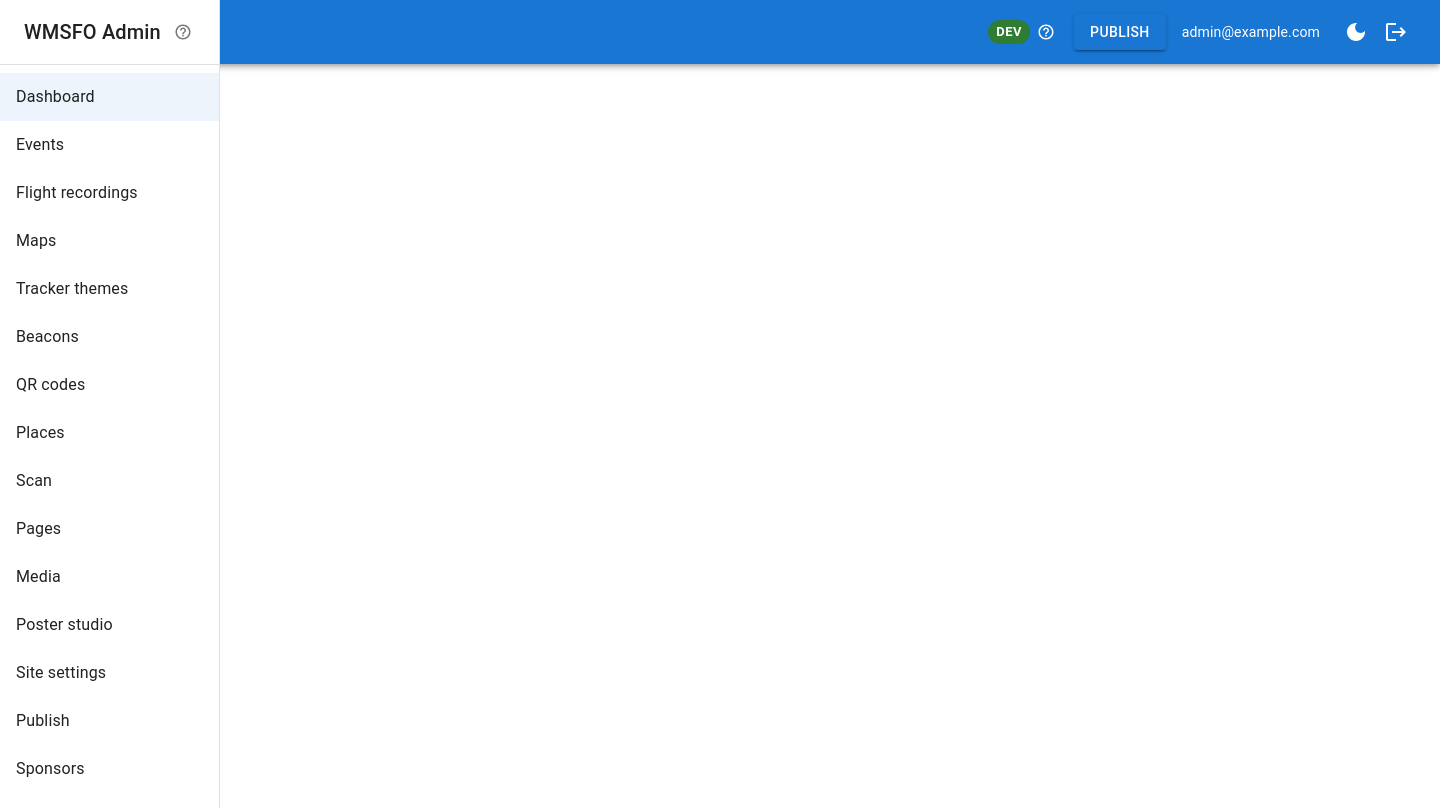
Scenario: MainLayout: the bar's Publish button › publishes with the label from the dialog when there are changes and no problems
The width and height of the screenshot is (1440, 808).
Click the button with test id "bar-publish". click: (1120, 32)
box: [1074,14,1166,50]
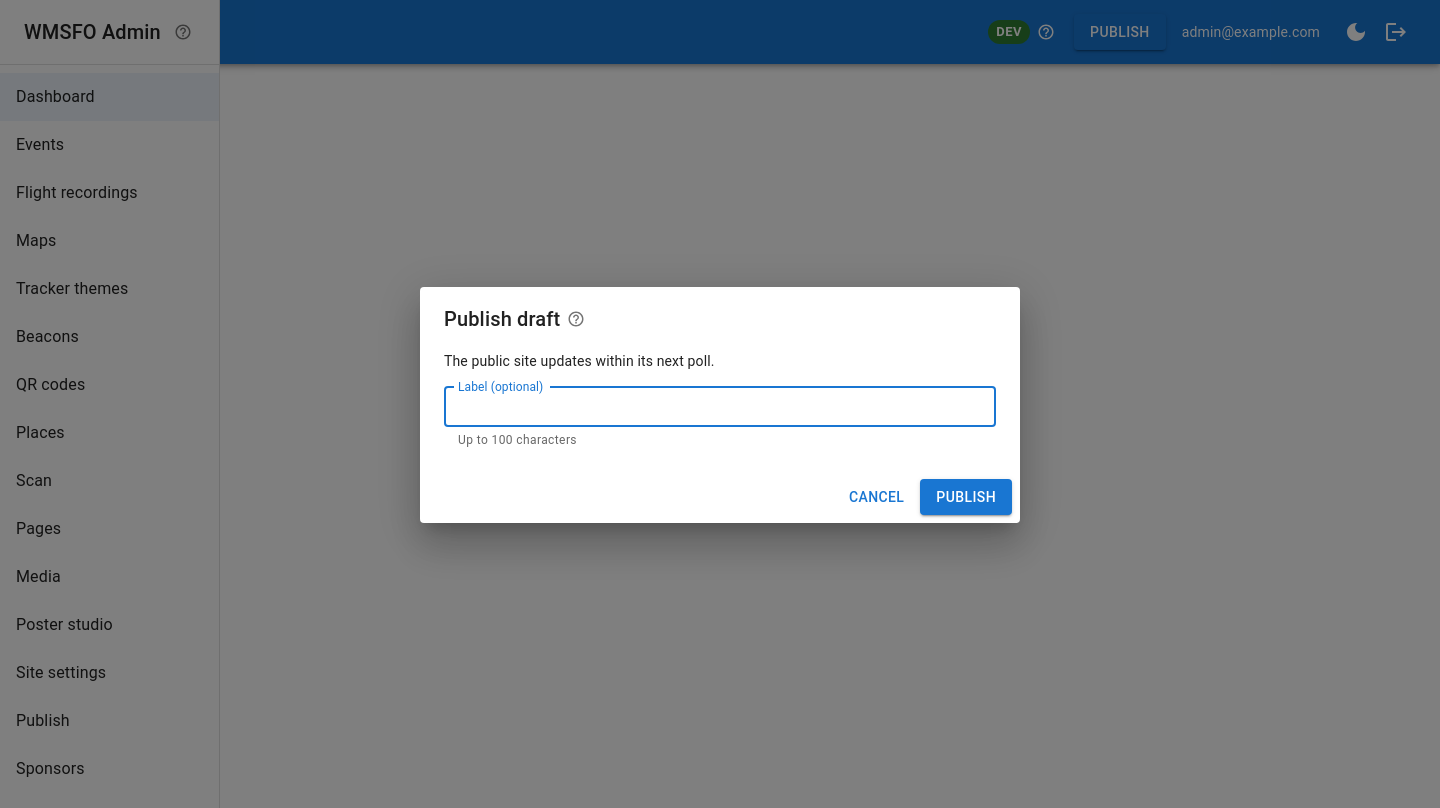
Expected: the button with test id "help-bar.publish" is shown, [564,307,588,331]
Type "From the bar" into the field. click: (720, 407)
box: [444,387,996,427]
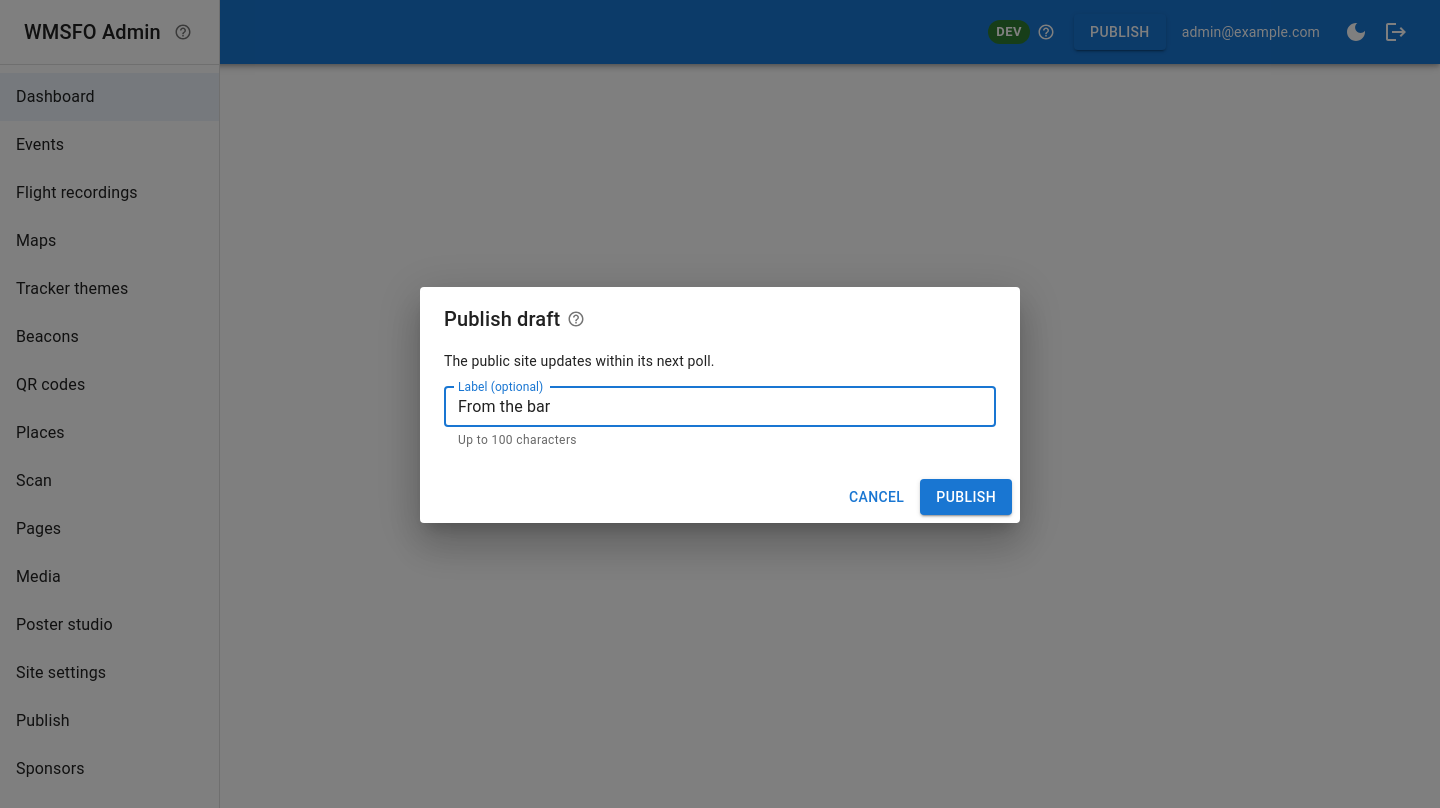
Click the button "Publish". click: (966, 497)
box: [920,479,1012,515]
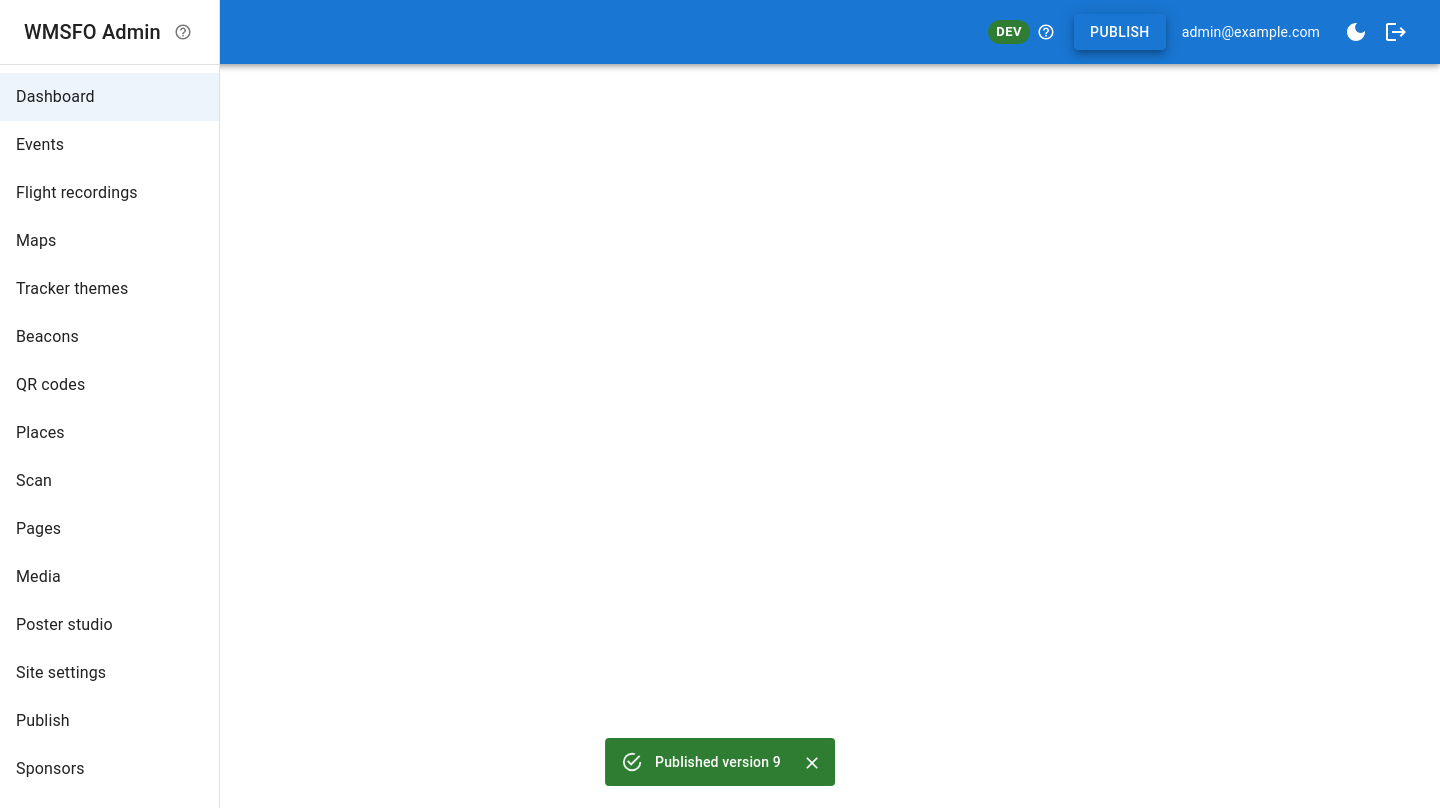
Expected: the text "Published version 9" is shown, [655,754,781,770]
